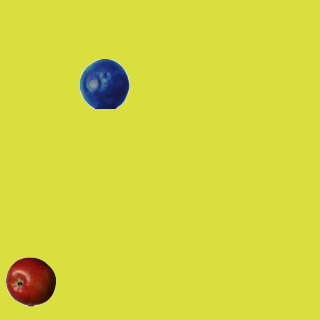Apple Braeburn: (5, 256, 55, 306)
Huckleberry: (79, 58, 129, 108)
